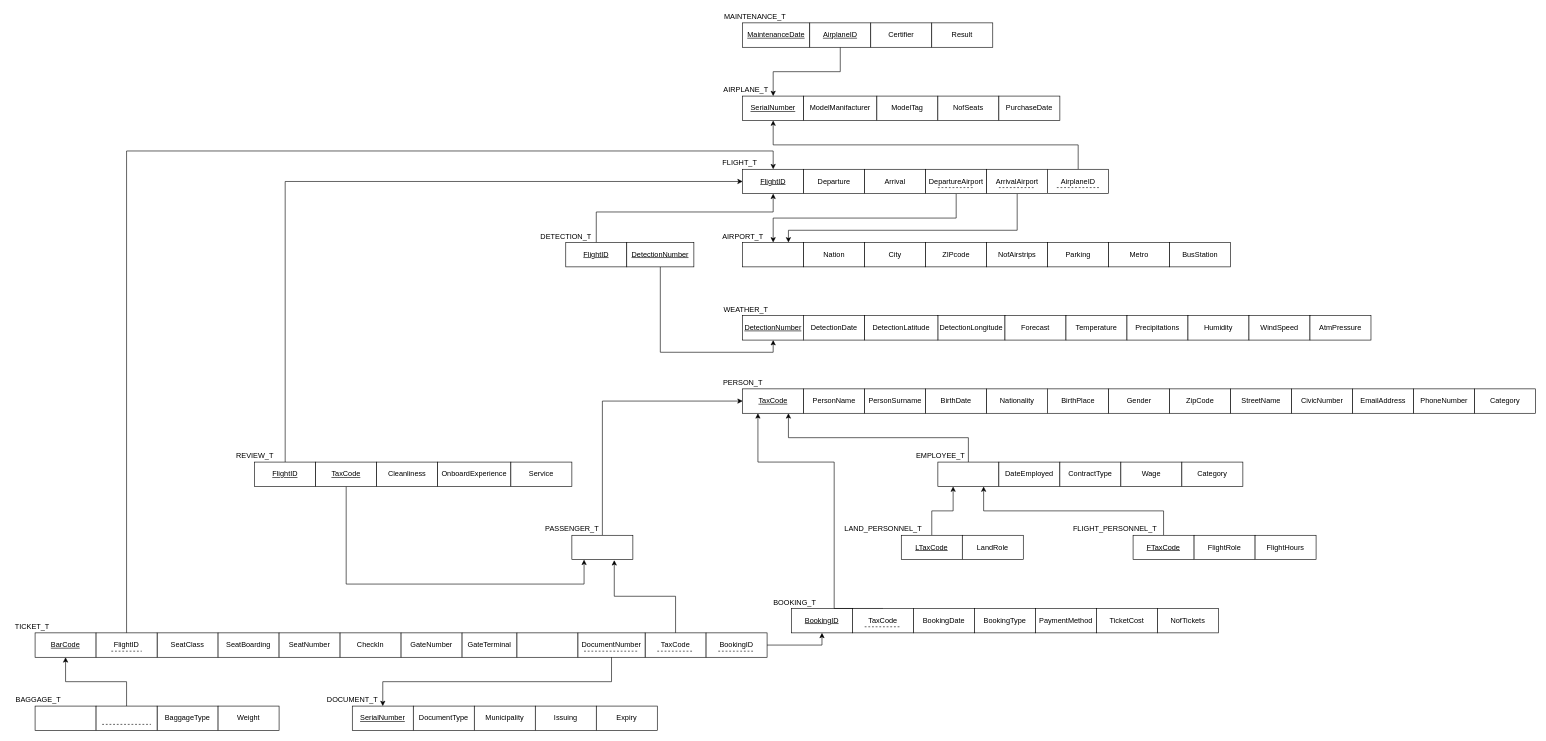
This 1546x741 diagram has some shape labels left out. Each missing label, with the box of its shape:
AirportCode: (742, 242, 804, 267)
BaggageID: (34, 705, 96, 730)
ETaxCode: (937, 461, 999, 486)
GateClosingTime: (516, 632, 578, 657)
PTaxCode: (571, 535, 633, 560)
TicketBarCode: (95, 705, 157, 730)
